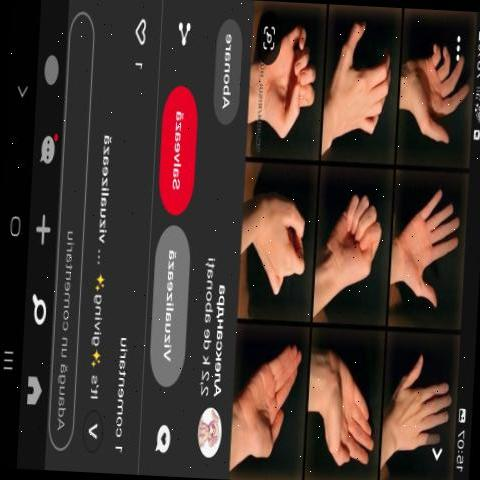Hands: (230, 334, 310, 466), (322, 17, 401, 149), (300, 340, 378, 466), (395, 177, 463, 315), (400, 35, 478, 153), (312, 181, 386, 300), (388, 342, 458, 466)
